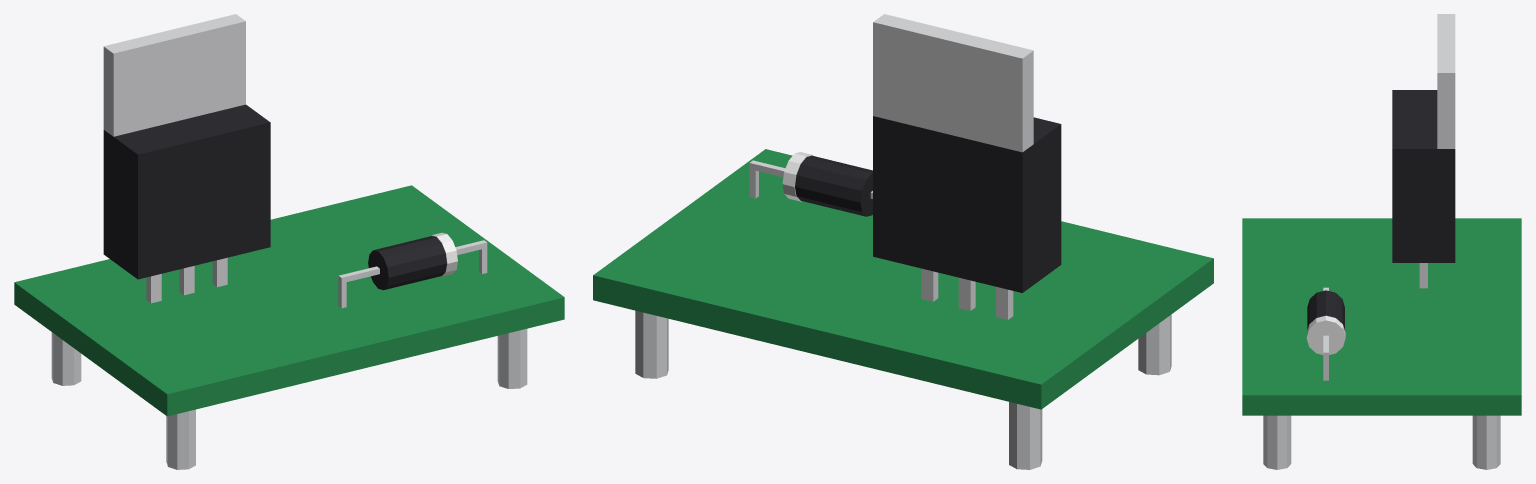
Rendered from mosfet_board.fbx.
The picture shows the model from 3 angles, left to right: view 1: azimuth 30°, elevation 25°; view 2: azimuth 150°, elevation 25°; view 3: azimuth 270°, elevation 25°; orthographic projection. The views are drawn at different scales.
Parts seen in each view (by area): view 1: mosfet_board; view 2: mosfet_board; view 3: mosfet_board.
Part boxes in pixels (box(x1,y1,x2,y2)): mosfet_board: box(14, 14, 564, 469); mosfet_board: box(593, 14, 1213, 469); mosfet_board: box(1242, 14, 1521, 469).
Bounding box in the file's own units: 0.03 × 0.0246 × 0.02.
